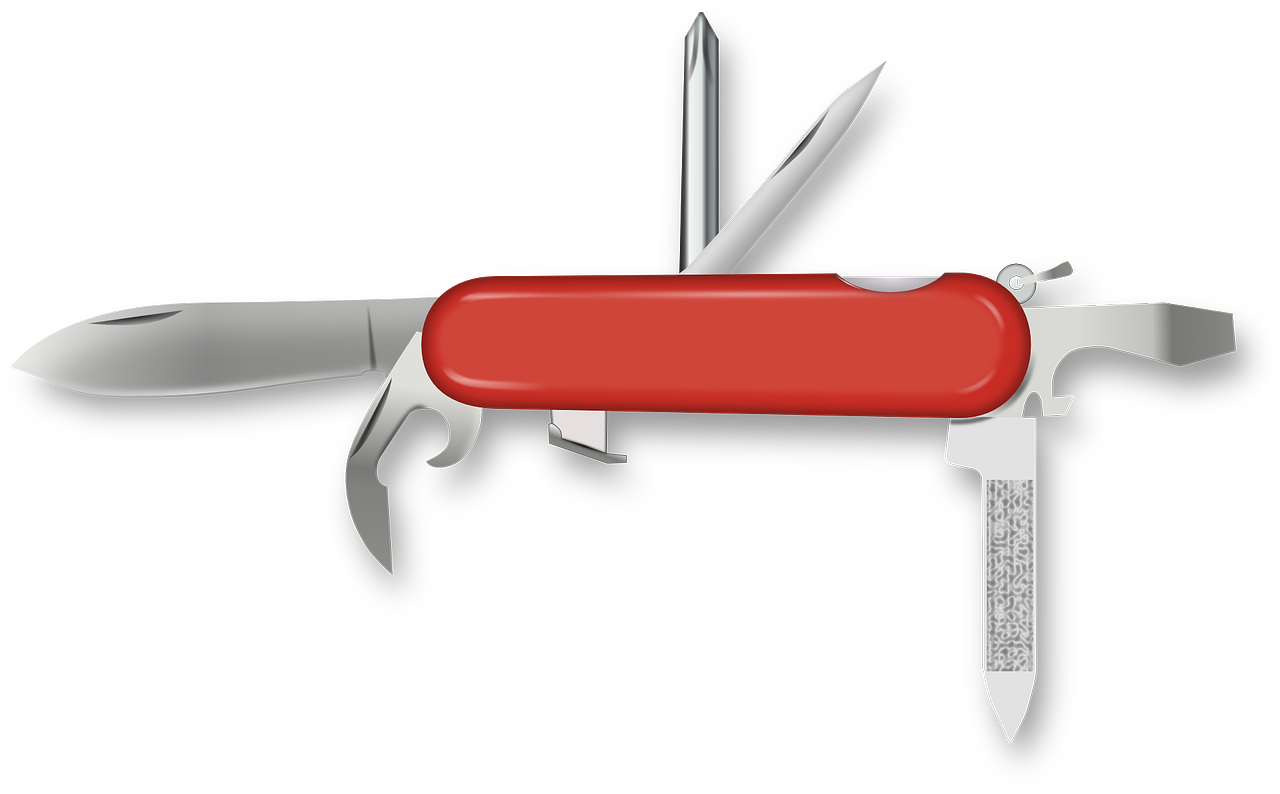knife: (678, 57, 892, 275), (5, 294, 439, 400), (343, 325, 488, 579), (945, 412, 1041, 755), (985, 298, 1247, 418)
